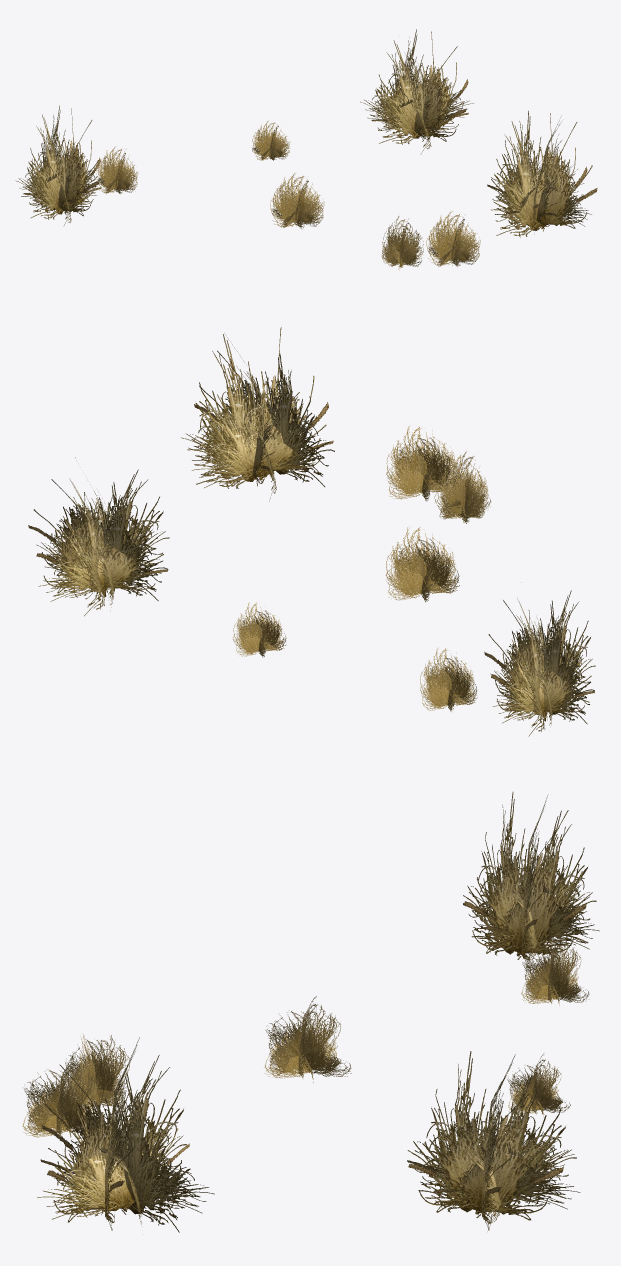
File: props_desert_bushes.FBX
The picture shows the model from 3 angles, top to bottom: view 1: azimuth 30°, elevation 25°; view 2: azimuth 150°, elevation 25°; view 3: azimuth 270°, elevation 25°; orthographic projection. The views are drawn at different scales.
Visible parts, largest first — view 1: props_bushes_A, props_bushes_B, props_tumbleweed; view 2: props_bushes_A, props_bushes_B, props_tumbleweed; view 3: props_bushes_A, props_bushes_B, props_tumbleweed.
Part boxes in pixels (<box>): props_bushes_A: <box>15,29,597,237</box>; props_bushes_B: <box>96,121,480,270</box>; props_tumbleweed: <box>270,173,324,228</box>; props_bushes_A: <box>28,327,595,736</box>; props_bushes_B: <box>233,425,491,711</box>; props_tumbleweed: <box>385,526,459,601</box>; props_bushes_A: <box>37,792,599,1232</box>; props_bushes_B: <box>22,933,589,1139</box>; props_tumbleweed: <box>264,996,351,1082</box>.
Size of the model in its own units: 1211 by 284 by 916.
Materials: 1 (1 with a texture image).
